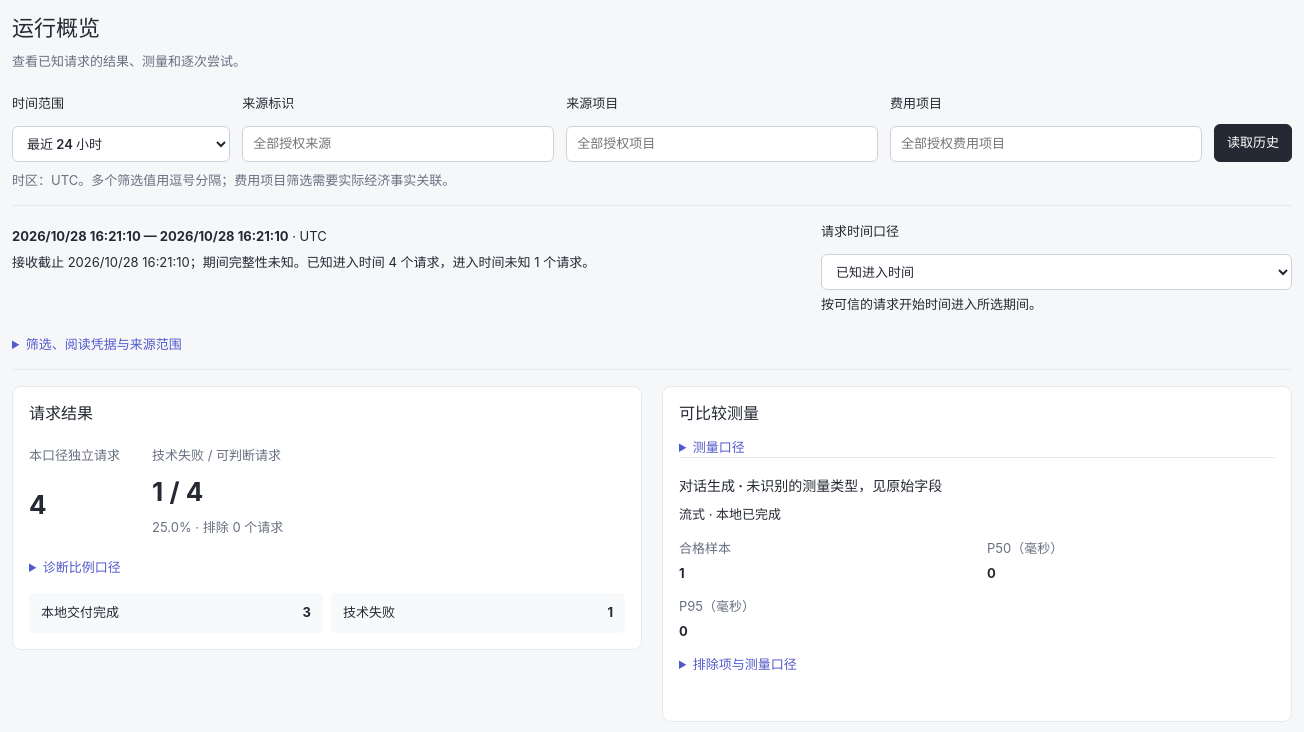
Test: uses one independent cohort for outcome, dimension, measurement and request reads and keeps observed zero
expect the text "1 / 4" is shown: met, box [152,476,203,507]
Select "进入时间未知" in the dropdown labelled "请求时间口径": (1056, 272) [821,254,1292,290]
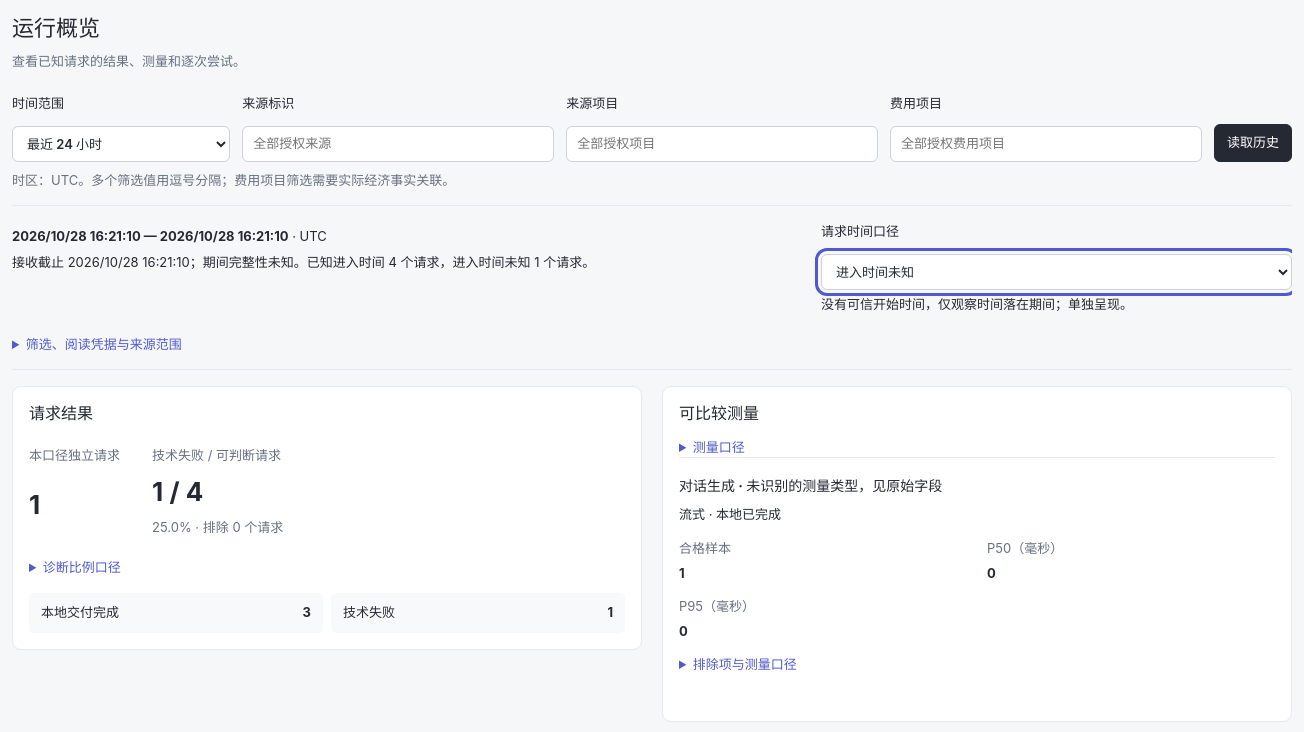
expect the text "没有可信开始时间，仅观察时间落在期间；单独呈现。" is shown: met, box [821,296,1133,312]
